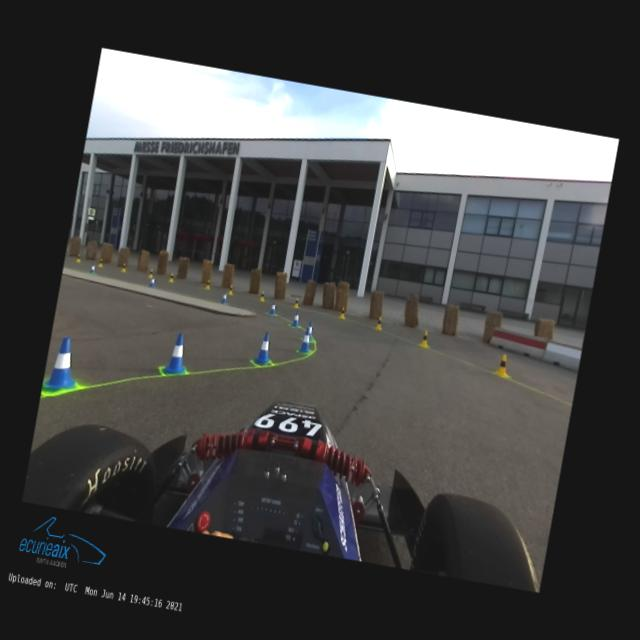blue_cone: (41, 334, 83, 396), (161, 330, 192, 377), (252, 330, 274, 366), (298, 327, 312, 353), (291, 310, 301, 328), (306, 321, 314, 342), (268, 300, 277, 314), (220, 290, 228, 304), (149, 275, 156, 287), (89, 262, 96, 272)
yellow_cone: (495, 353, 511, 377), (419, 329, 430, 346), (374, 316, 384, 330), (258, 289, 266, 301), (227, 283, 234, 295), (339, 307, 346, 319), (292, 298, 300, 308), (96, 258, 104, 268), (167, 272, 174, 282), (120, 262, 127, 272), (75, 252, 82, 262), (204, 279, 210, 289), (147, 268, 153, 278)
